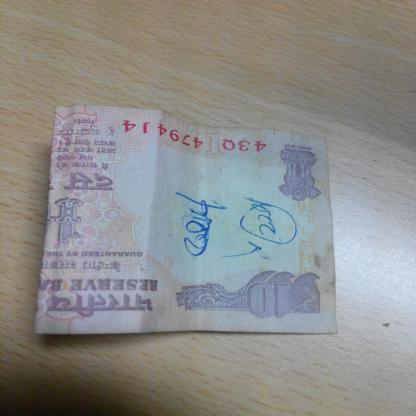Old10Front: (34, 104, 339, 336)
